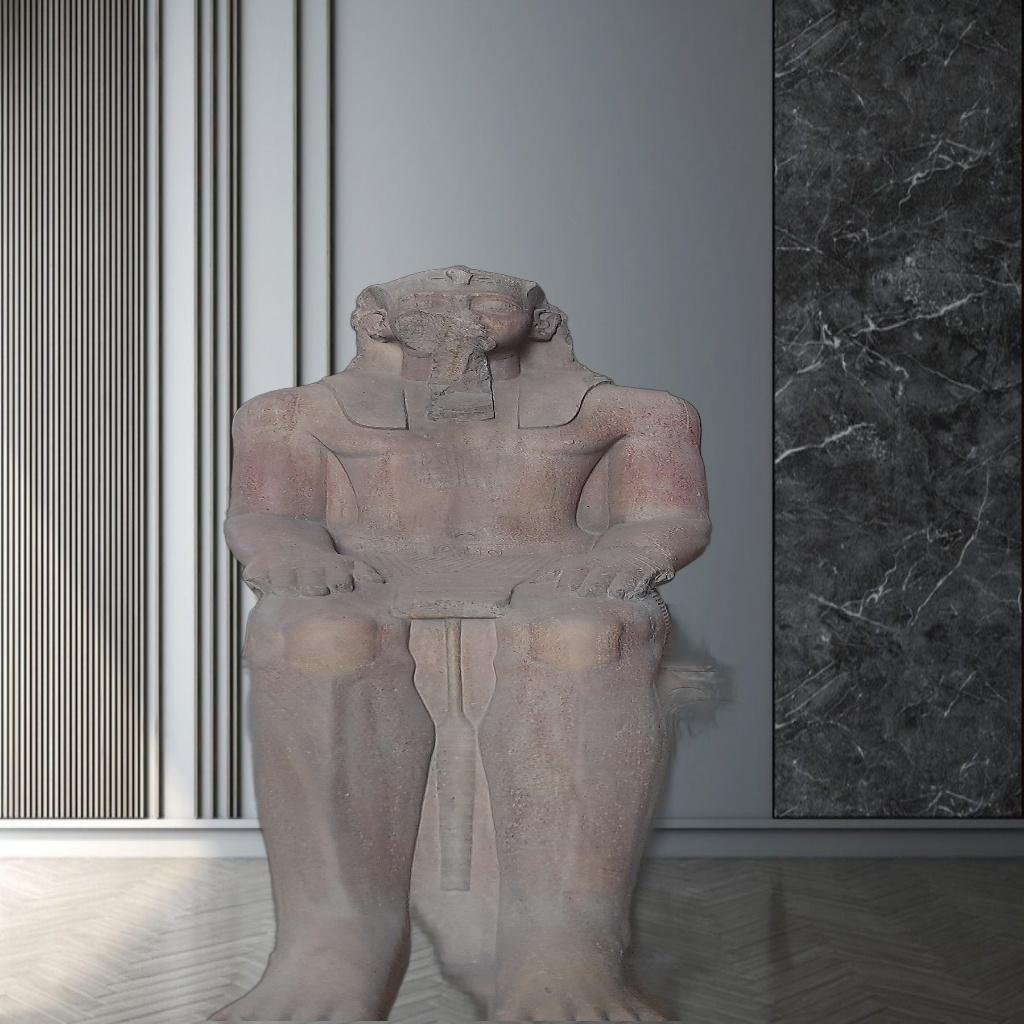Colossal Statue of Middle Kingdom King: (85, 262, 802, 1020)
